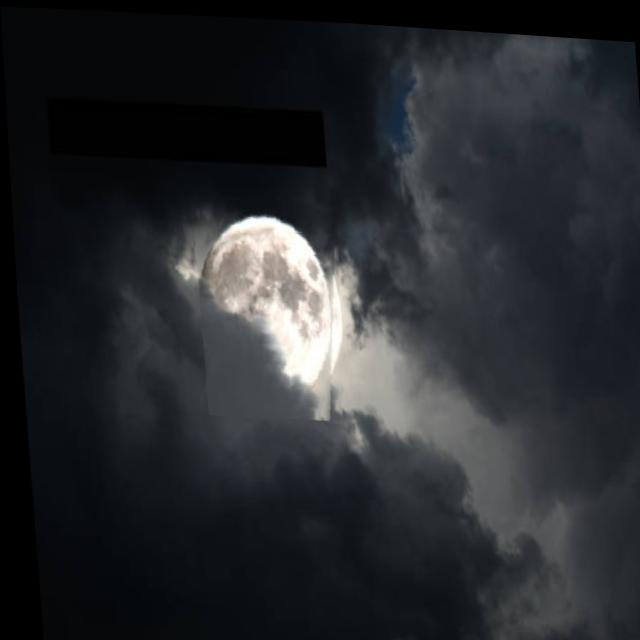moon: (189, 189, 346, 420)
